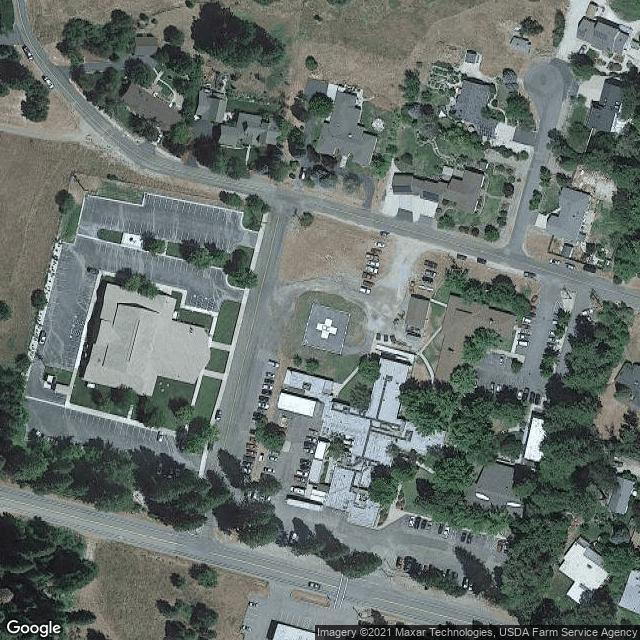Helipad: (303, 307, 355, 352)
